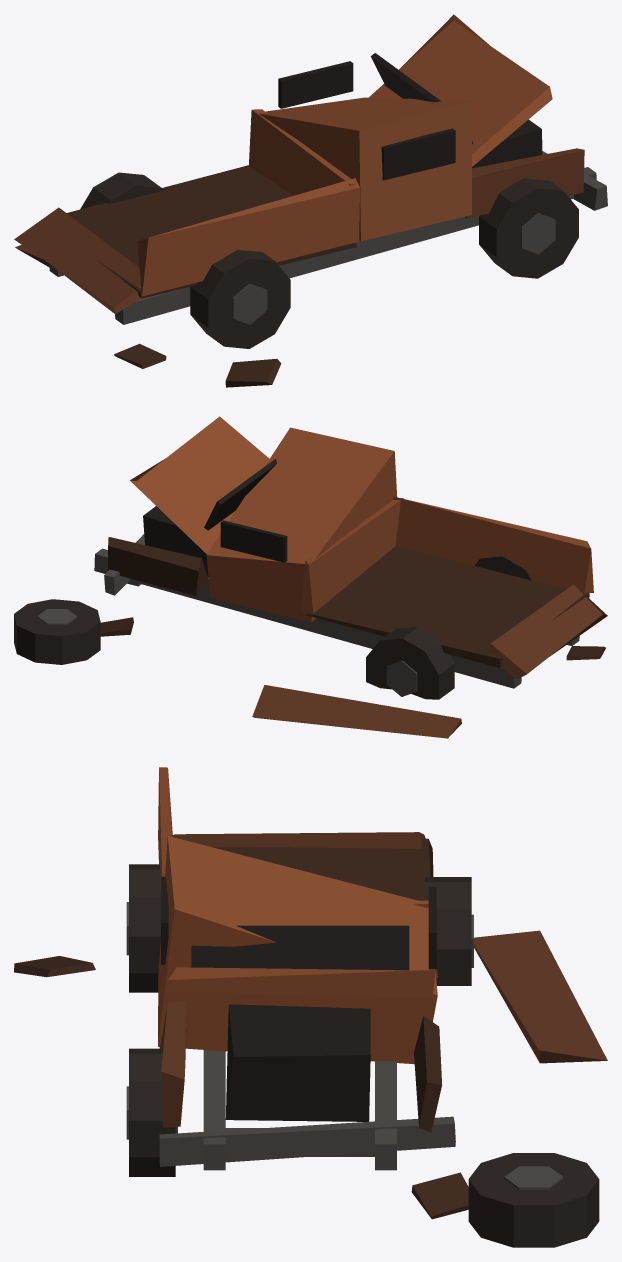
Rendered from wreck.glb.
3 renders of one model, top to bottom at view 1: azimuth 30°, elevation 25°; view 2: azimuth 150°, elevation 25°; view 3: azimuth 270°, elevation 25°, orthographic. The views are drawn at different scales.
Visible parts, largest first — view 1: wreck; view 2: wreck; view 3: wreck.
Part boxes in pixels (x1,y1,x2,y2): wreck: (14,14,607,387); wreck: (14,416,607,738); wreck: (14,767,607,1247).
Size of the model in its own units: 5.14 by 1.7 by 3.81.
